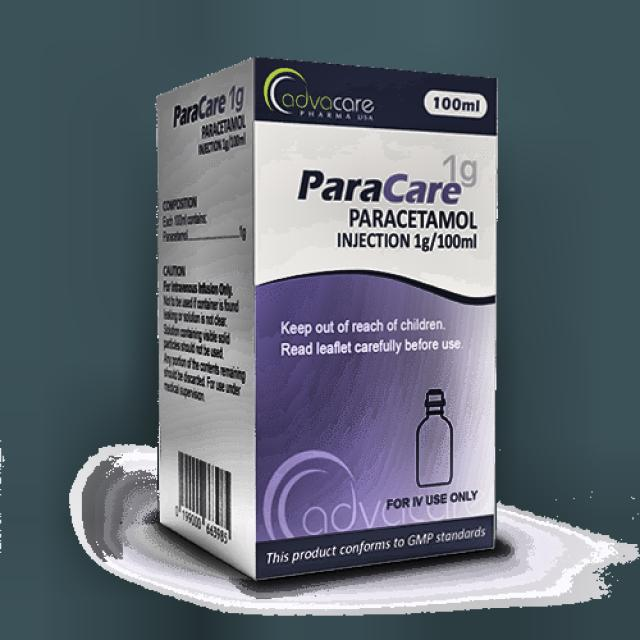Paracetamol: (301, 149, 493, 279)
